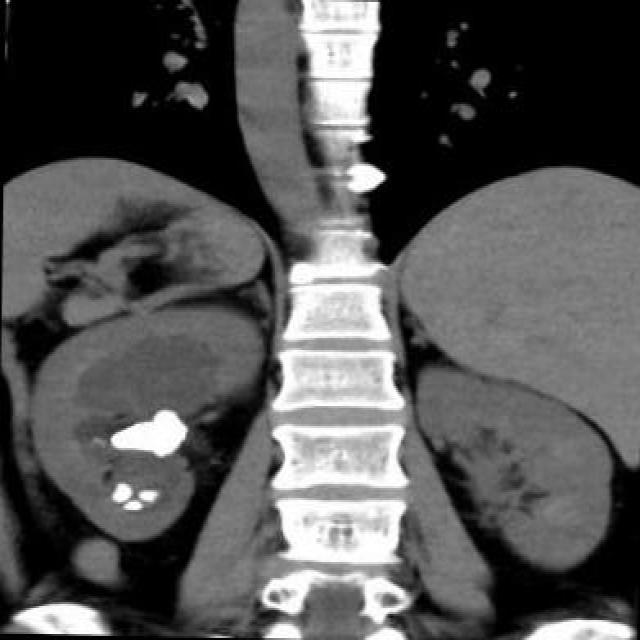Tas_Var: (105, 406, 186, 464), (107, 481, 132, 505), (135, 484, 160, 502), (122, 499, 143, 513)
